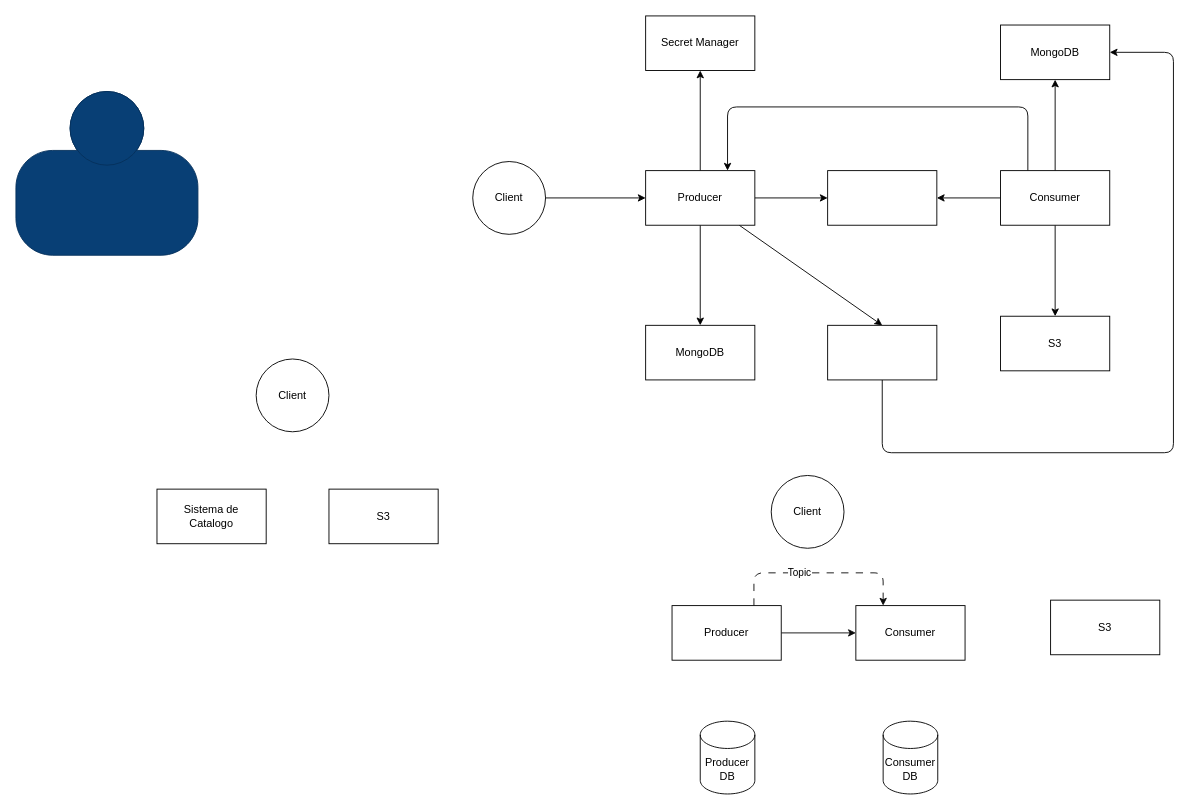
Some shapes in this 1197 by 810 pixel diagram are drawn without their labels. The centre of each missing label's shape, as x and y in pixels:
Consumer DB Consistency: pixel 882 352
Person name [Person] Description of person.: pixel 106 173
RabbitMQ: pixel 882 197
